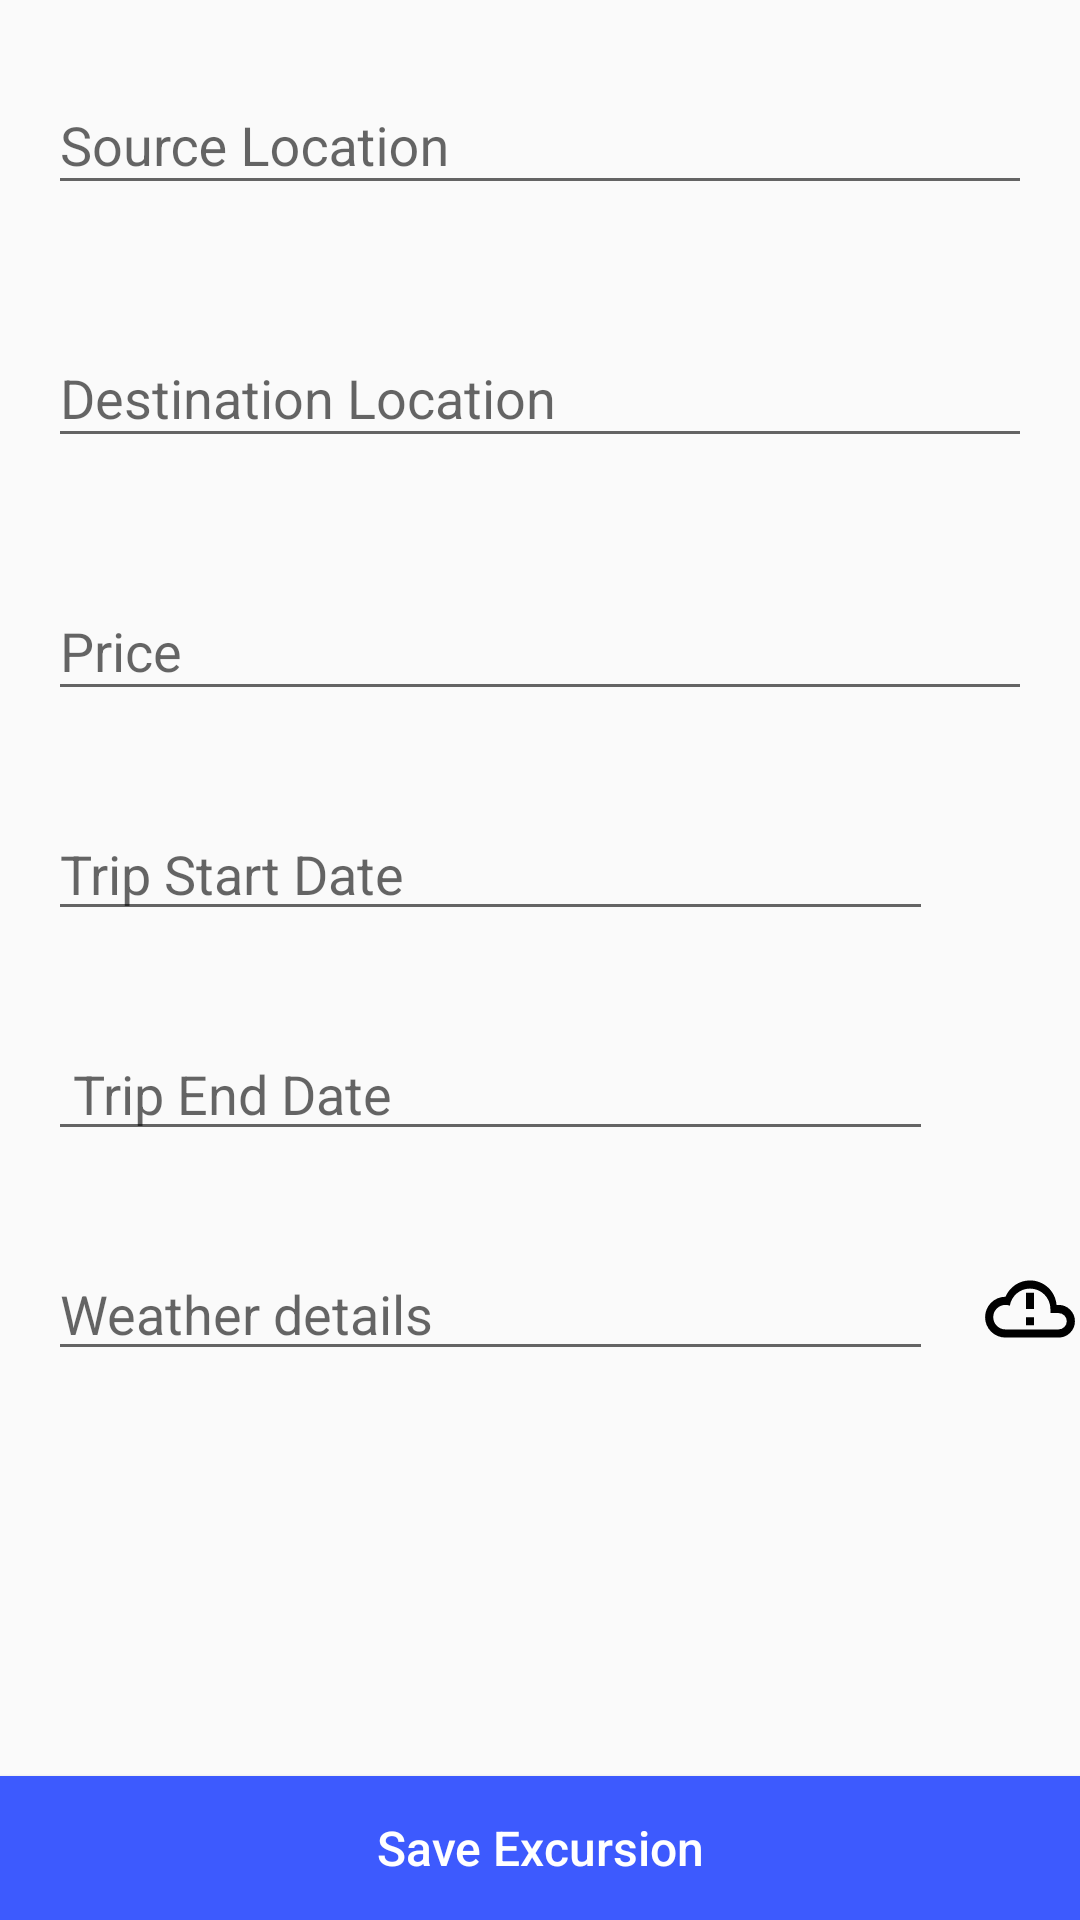

Point at icon controls on the screen. Image size 1080 × 1920, points as point (x, y).
weather cloudy alert: point (1030, 1309)
